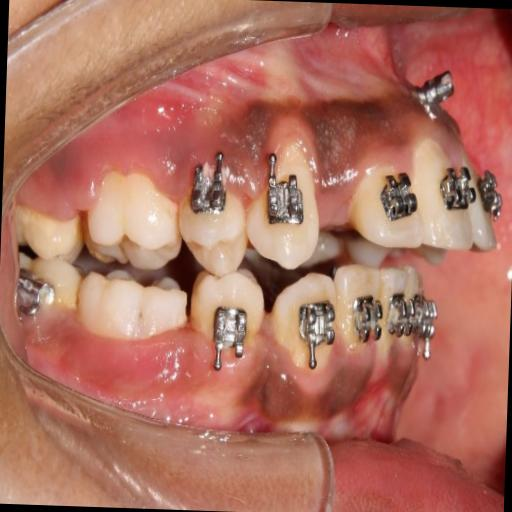correct_brace: (178, 148, 248, 276), (189, 264, 265, 376), (200, 284, 255, 375), (258, 154, 309, 238), (286, 294, 335, 367), (379, 168, 418, 230), (346, 294, 381, 343)
incorrect_brace: (354, 162, 422, 250), (334, 261, 382, 353), (186, 152, 230, 231)
